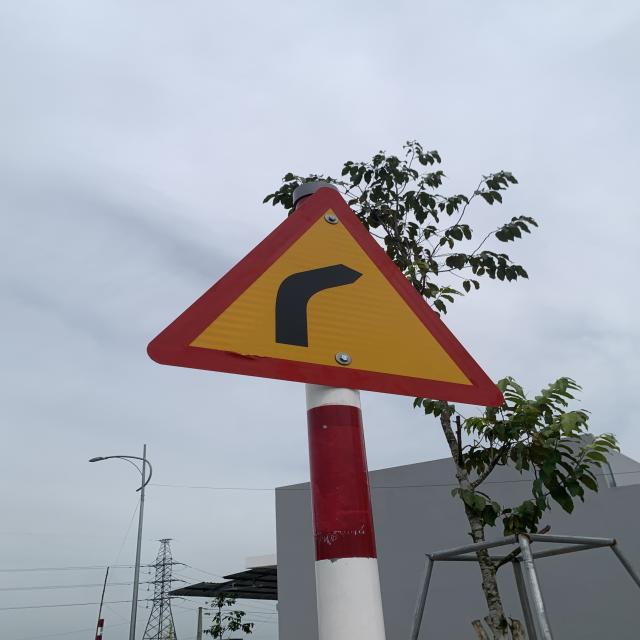Duong_Nguoi_Di_Bo_Cat_Ngang: (143, 185, 505, 406)
